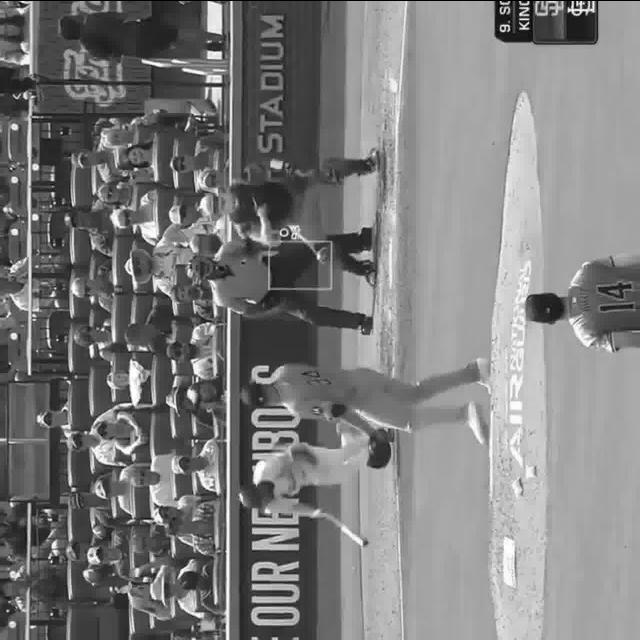base: (386, 236, 394, 288)
baseball_glove: (368, 426, 386, 468)
bat: (321, 508, 368, 544)
shoe: (468, 402, 488, 442), (474, 357, 492, 393), (362, 260, 378, 286), (368, 149, 382, 171), (360, 315, 374, 333)
